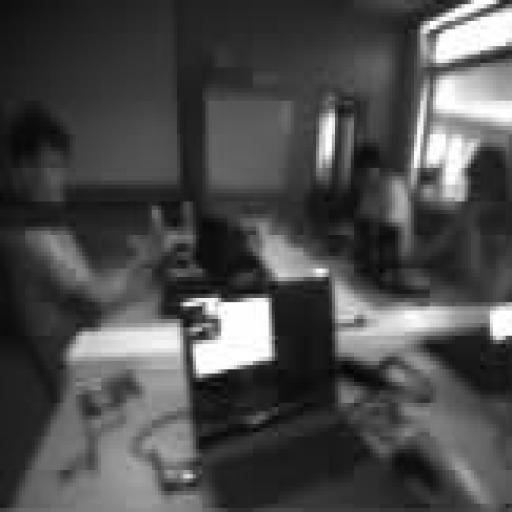human: (0, 227, 167, 373), (415, 143, 511, 302), (358, 147, 414, 264)
